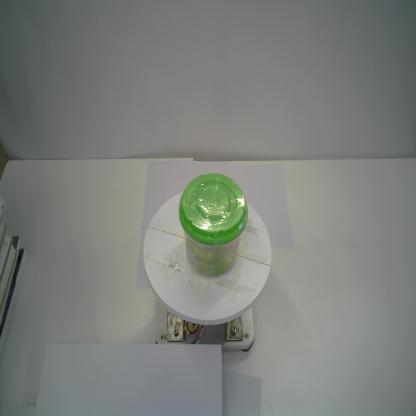Instant Drink: (175, 170, 250, 280)
